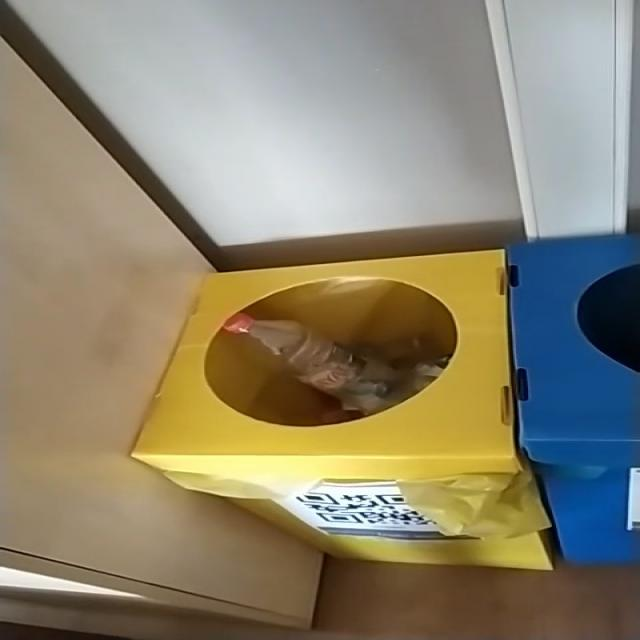plastic: (224, 314, 395, 415)
